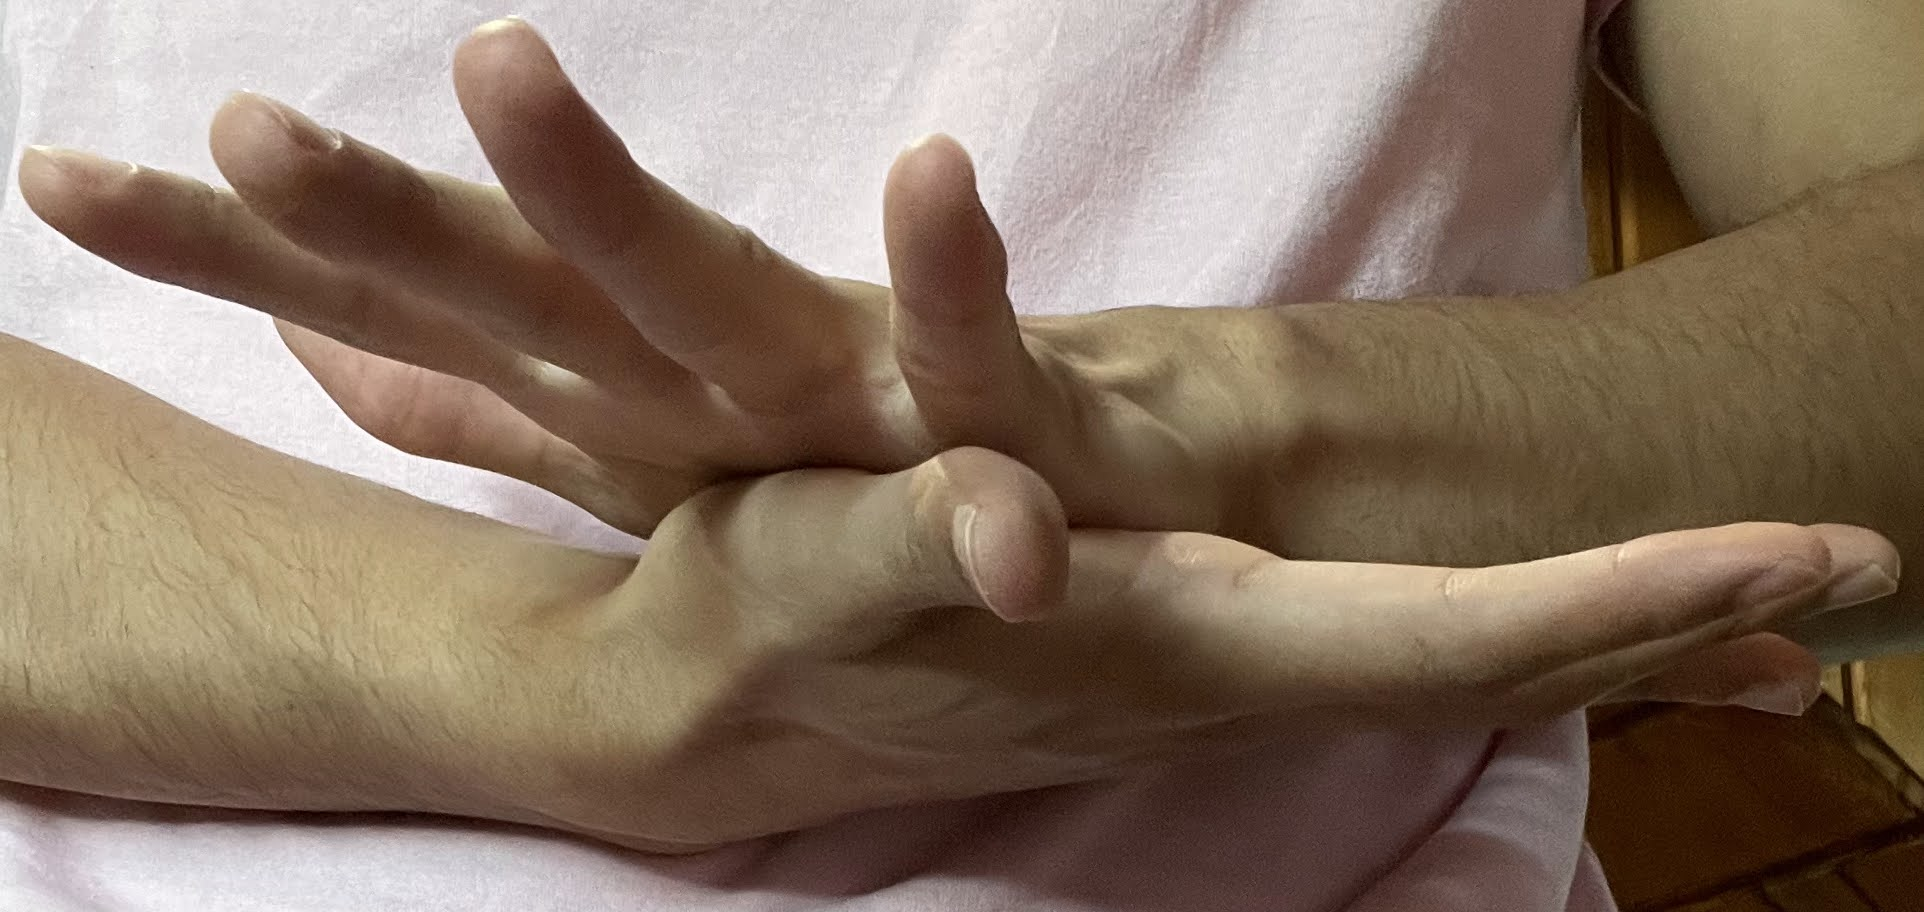cheese: (13, 10, 1903, 860)
